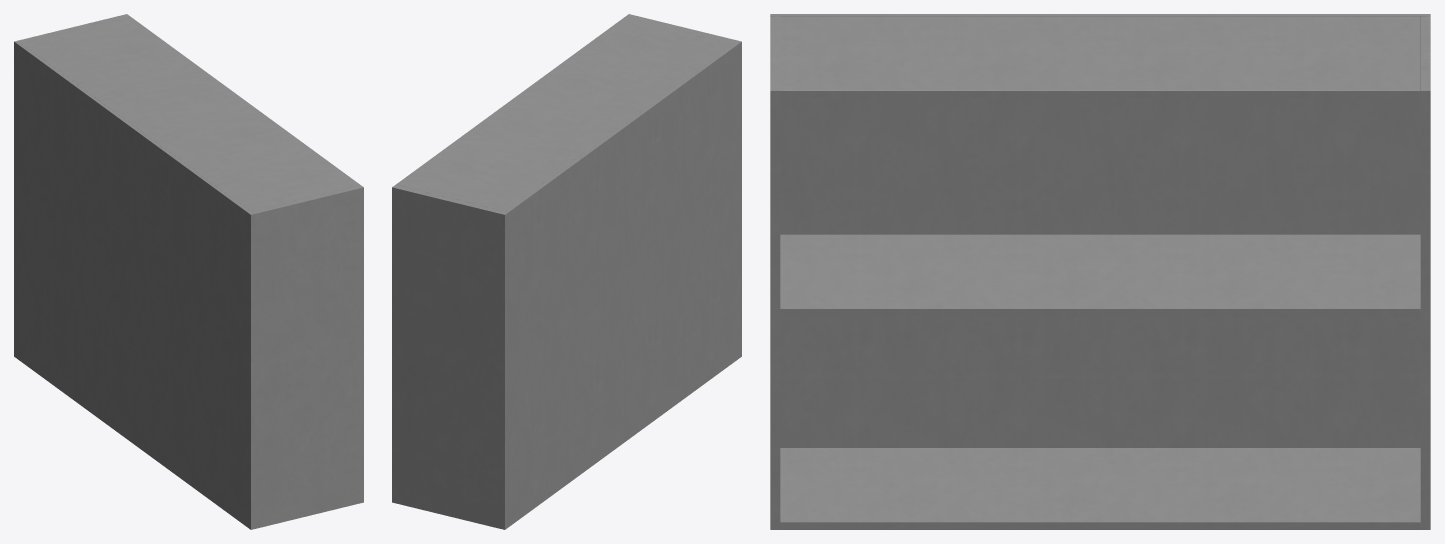
The picture shows the model from 3 angles, left to right: view 1: azimuth 30°, elevation 25°; view 2: azimuth 150°, elevation 25°; view 3: azimuth 270°, elevation 25°; orthographic projection. The views are drawn at different scales.
Visible parts, largest first — view 1: visuals; view 2: visuals; view 3: visuals.
Part boxes in pixels (box(x1,y1,x2,y2)): visuals: box(14, 14, 363, 529); visuals: box(392, 14, 741, 529); visuals: box(770, 14, 1430, 529).
Size of the model in its own units: 0.3315 by 0.8835 by 1.2.
Materials: 1 (1 with a texture image).
